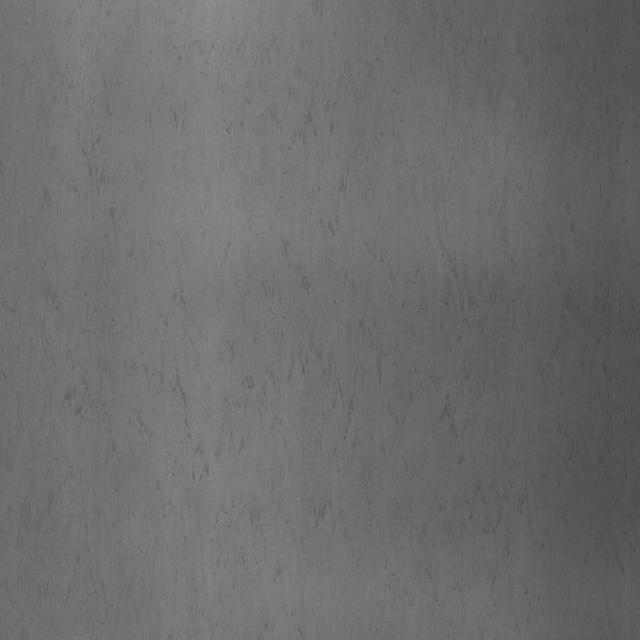inclusion: (128, 46, 500, 540)
